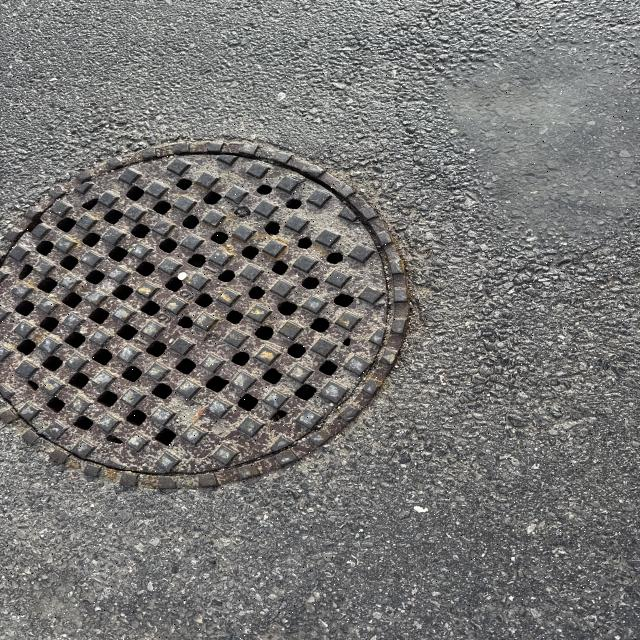Manhole: (2, 140, 414, 493)
